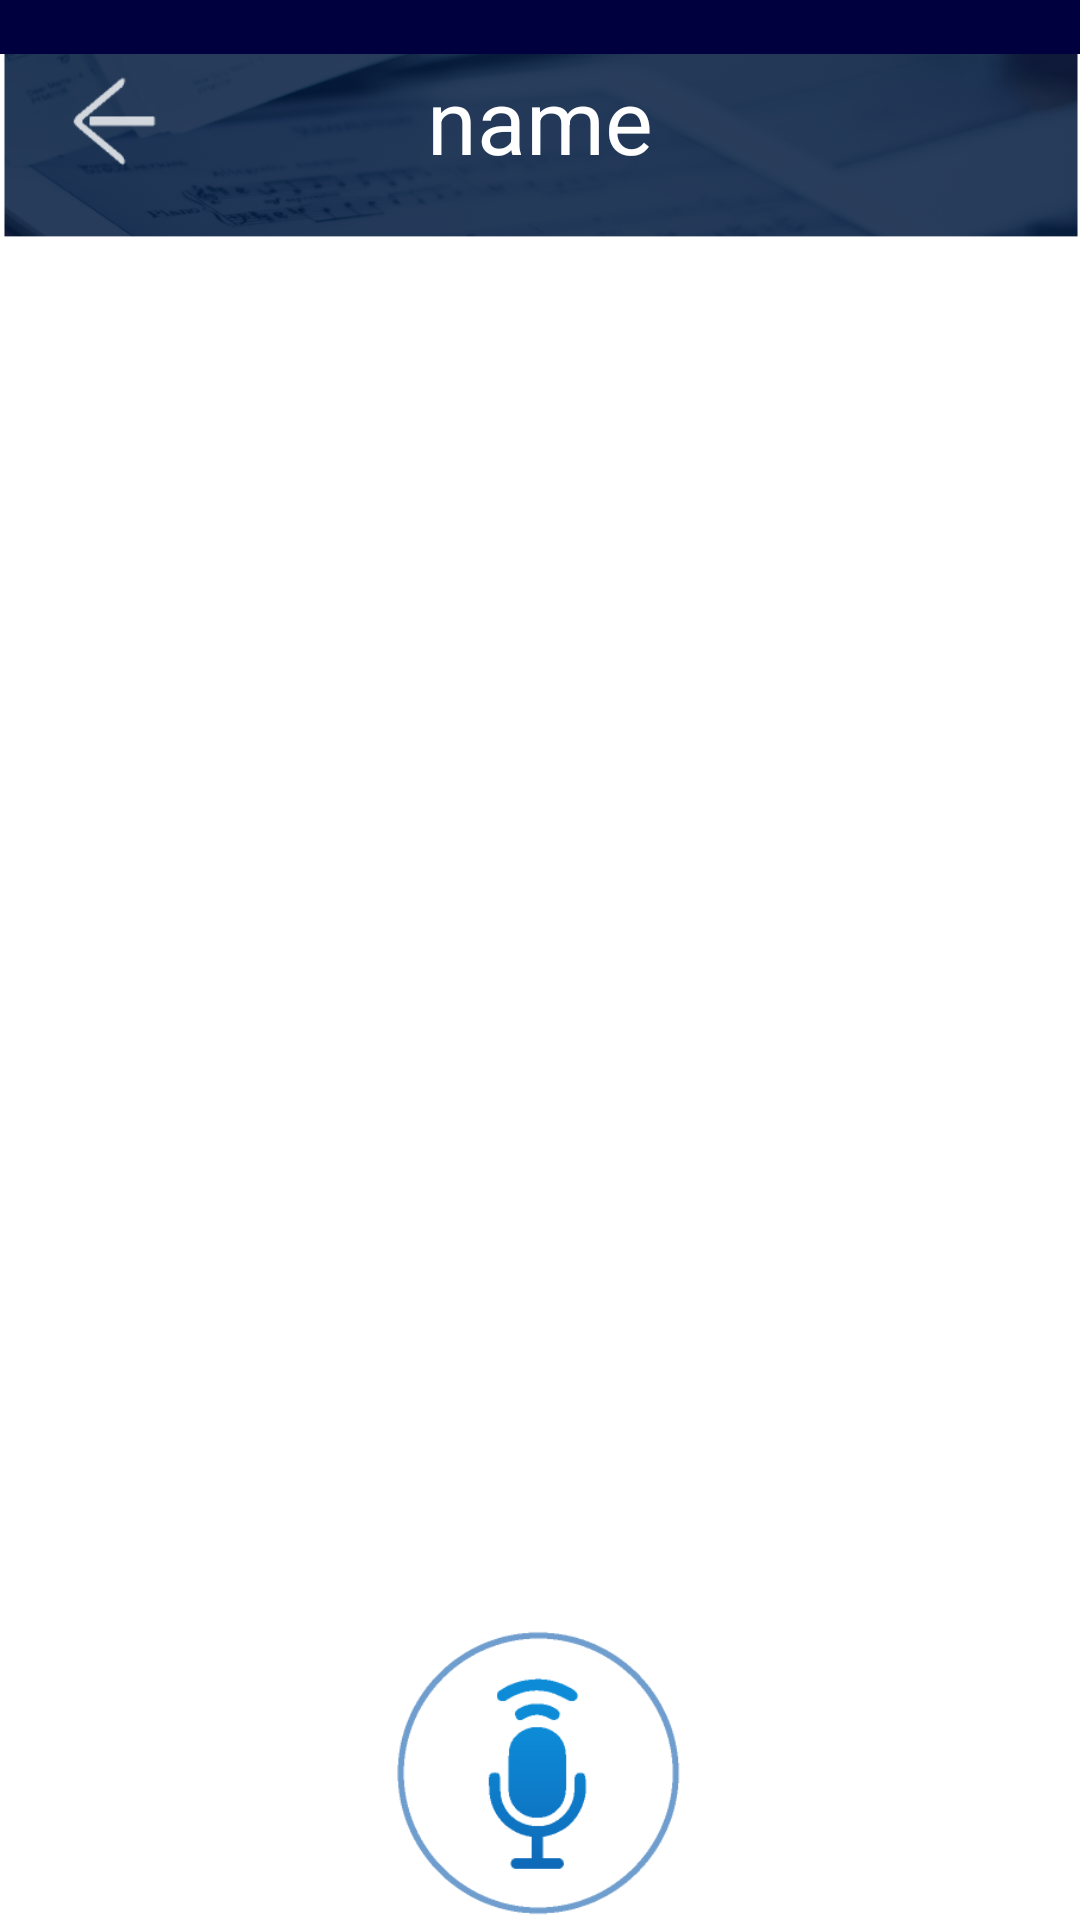

Named icons in this screenshot (1080 x 1920) and their centers, (x=x, y=y):
dialogue record: (x=538, y=1773)
